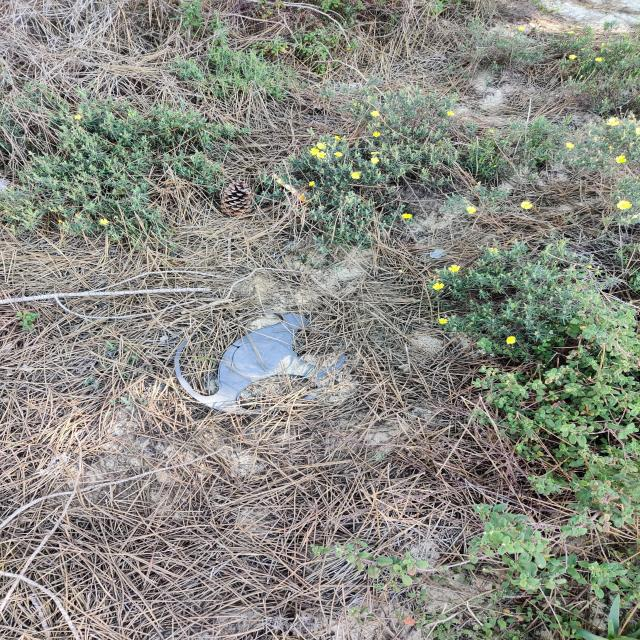litter: (139, 289, 387, 448)
